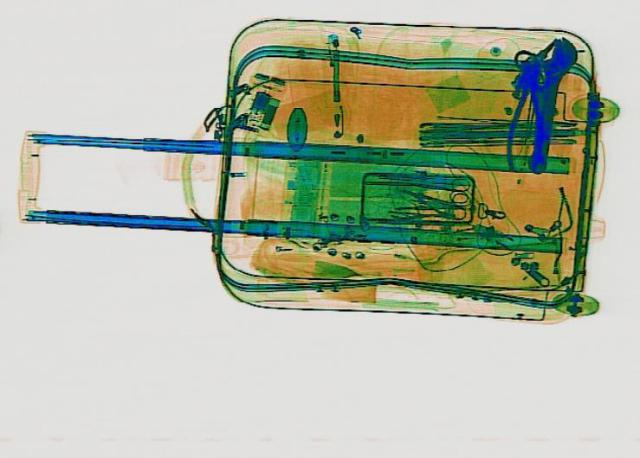Pliers: (504, 63, 548, 168)
Scissors: (400, 170, 470, 201)
Wrench: (507, 34, 578, 173)
